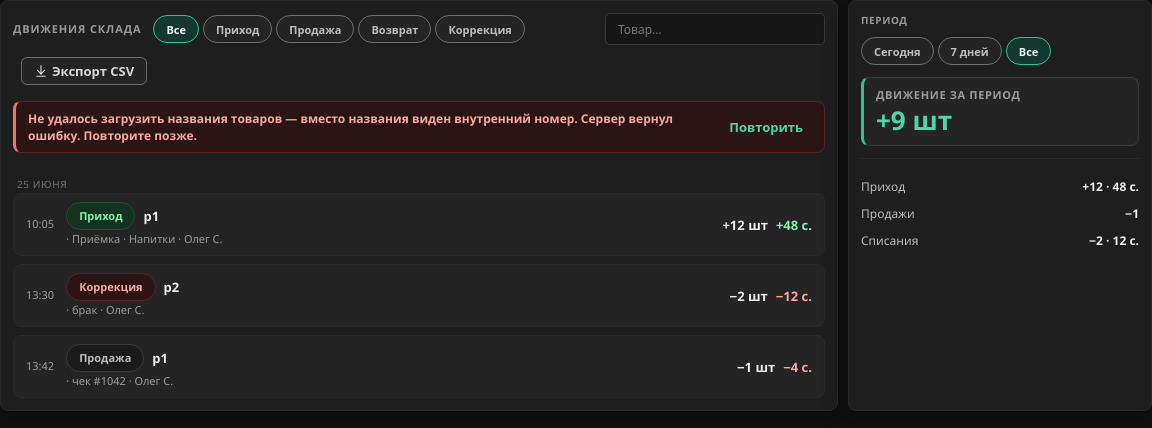
Test: JournalWorkspace › отказ каталога не прячет движения и повторяет только каталог
This screenshot has width=1152, height=428.
Expected: the text "Не удалось загрузить названия товаров" shows "Сервер вернул ошибку. Повторите позже.", 28,110 -> 673,144
What coordinates should you click on to do the following:
click the button "Повторить"
I would click on:
 (766, 127)
Its box is 720,113 -> 812,141.
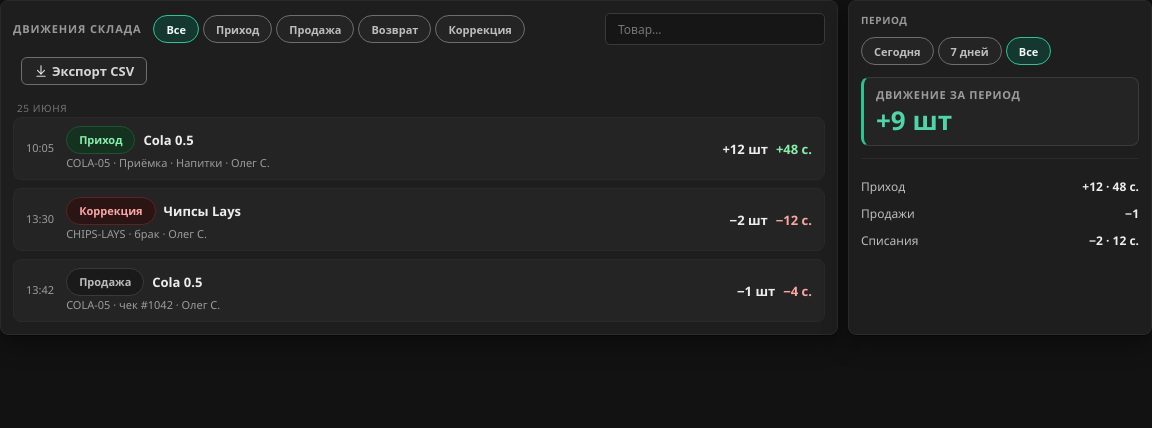
Expected: the text "Не удалось загрузить названия товаров" is gone
